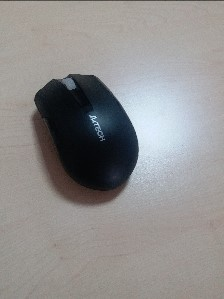mouse: (32, 72, 138, 197)
